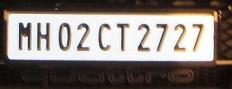0: (57, 20, 71, 51)
2: (135, 21, 153, 51), (75, 20, 90, 51), (172, 22, 187, 51)
7: (153, 21, 168, 51), (190, 21, 203, 51)
C: (97, 22, 111, 50)
H: (34, 21, 50, 50)
M: (17, 19, 32, 51)
T: (115, 21, 129, 51)
